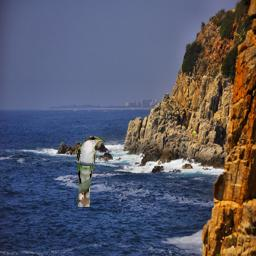Cuckoo: (76, 135, 105, 207)
